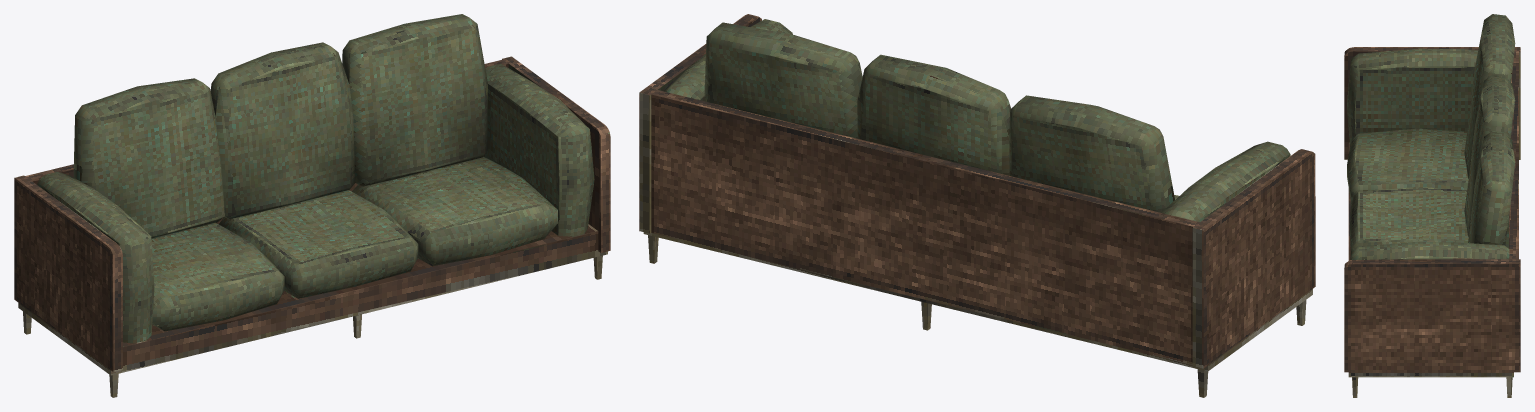
File: TripleSeaterSofa.glb
The picture shows the model from 3 angles, left to right: view 1: azimuth 30°, elevation 25°; view 2: azimuth 150°, elevation 25°; view 3: azimuth 270°, elevation 25°; orthographic projection. The views are drawn at different scales.
Parts seen in each view (by area): view 1: TripleSeaterSofa; view 2: TripleSeaterSofa; view 3: TripleSeaterSofa.
Part boxes in pixels (x1=…): TripleSeaterSofa: x1=14, y1=14, x2=610, y2=397; TripleSeaterSofa: x1=639, y1=14, x2=1315, y2=397; TripleSeaterSofa: x1=1344, y1=14, x2=1520, y2=397.
Bounding box in the file's own units: 2.42 × 1.04 × 0.8325.
1 material, 1 textured.
